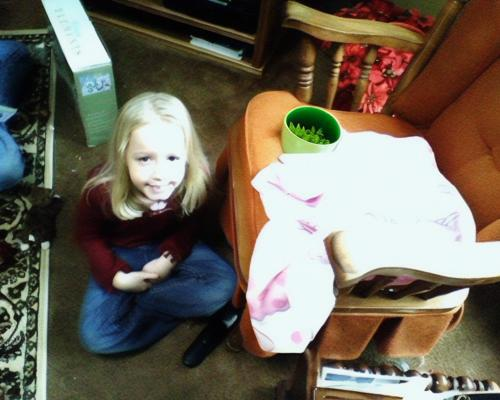chair: (225, 1, 500, 362)
person: (72, 91, 238, 359)
person/hand: (113, 272, 157, 292), (143, 257, 173, 282)
person/head: (126, 92, 192, 200)
pottedplant: (281, 105, 340, 152)
